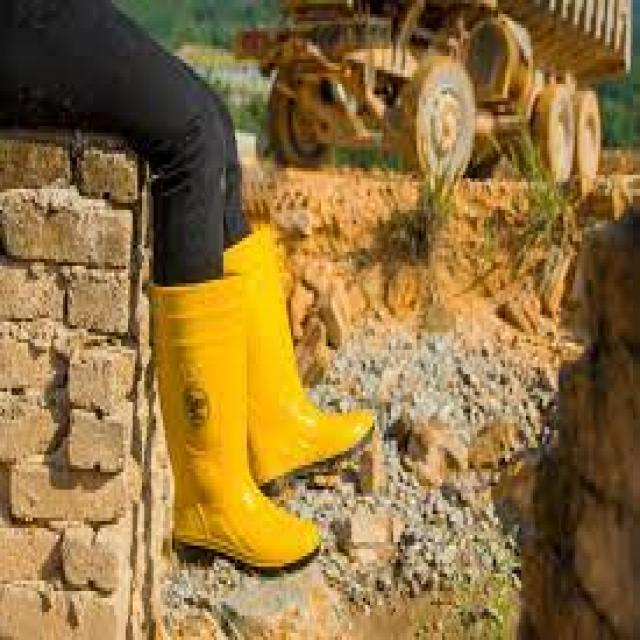shoes: (150, 229, 373, 568)
